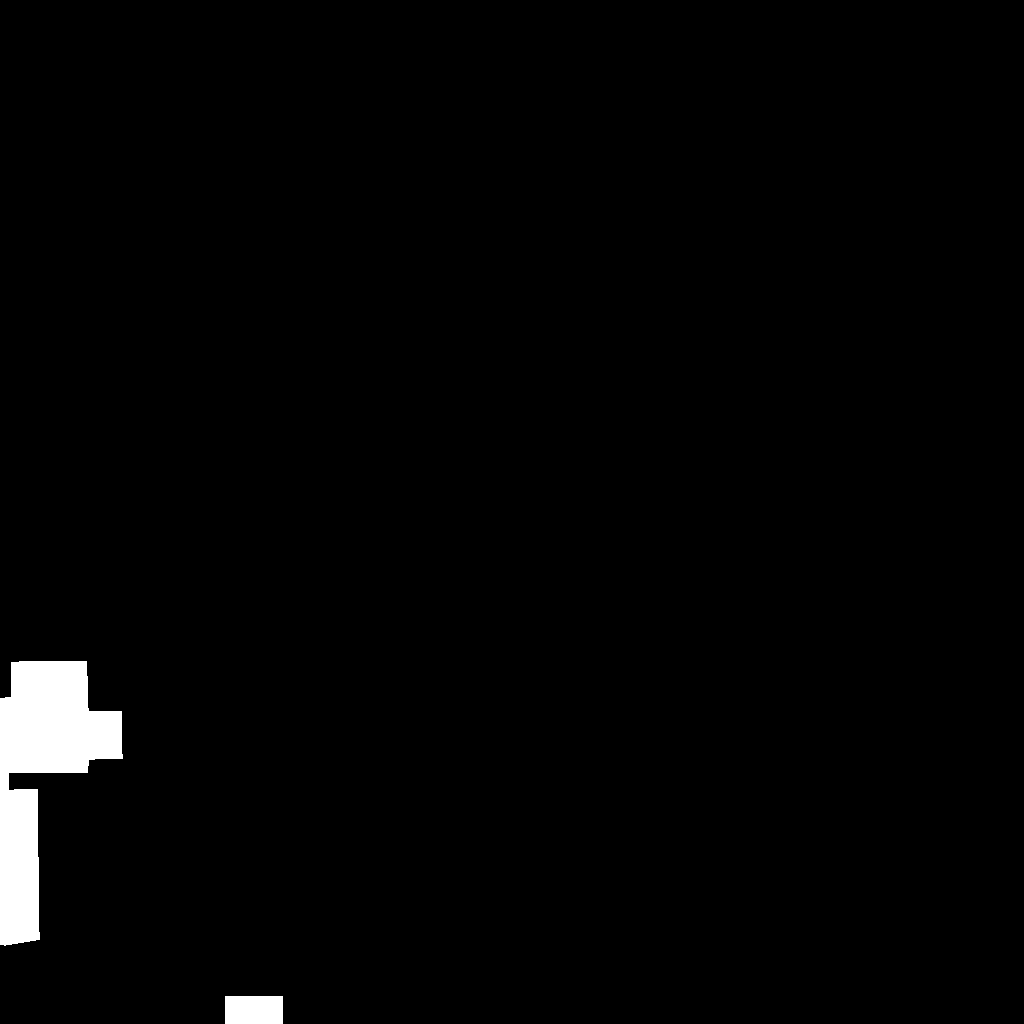building: (0, 661, 123, 946), (225, 996, 284, 1024)
